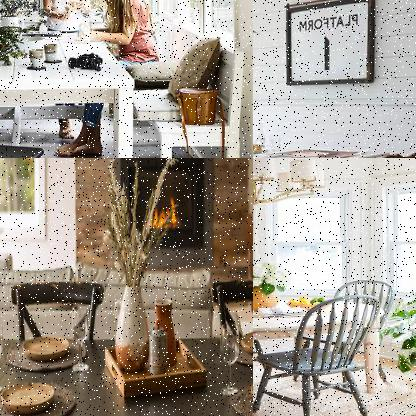table: (0, 322, 252, 415), (0, 23, 137, 157), (253, 292, 388, 415)
